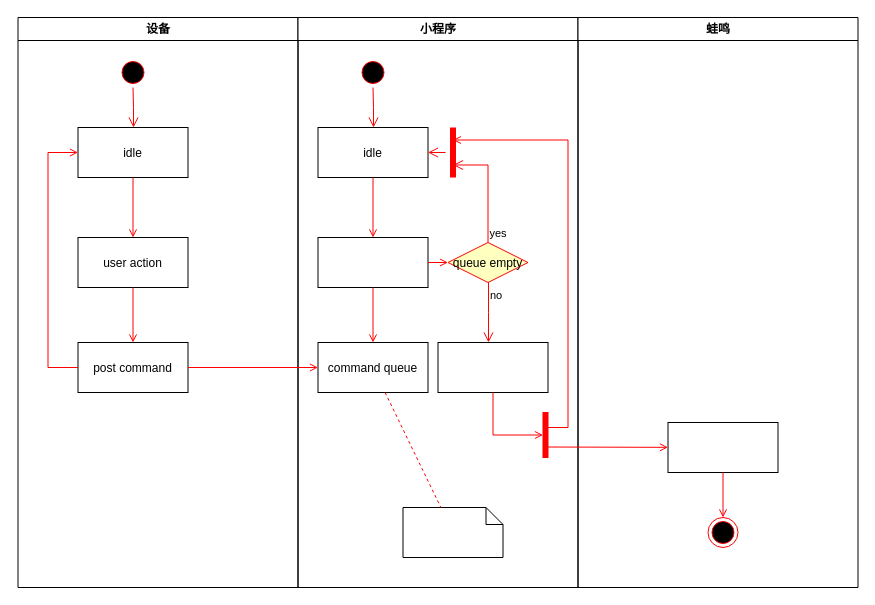
Image size: 875x605. Some labels were removed from this diagram. The shapes that lost their labels are listed below. From the top down, each one's centre as x and y in pixels, then its label:
At pixel 372 262: "check for new commands".
At pixel 492 367: "dispatch command worker thread".
At pixel 722 447: "process command".
At pixel 452 532: "critical section".
